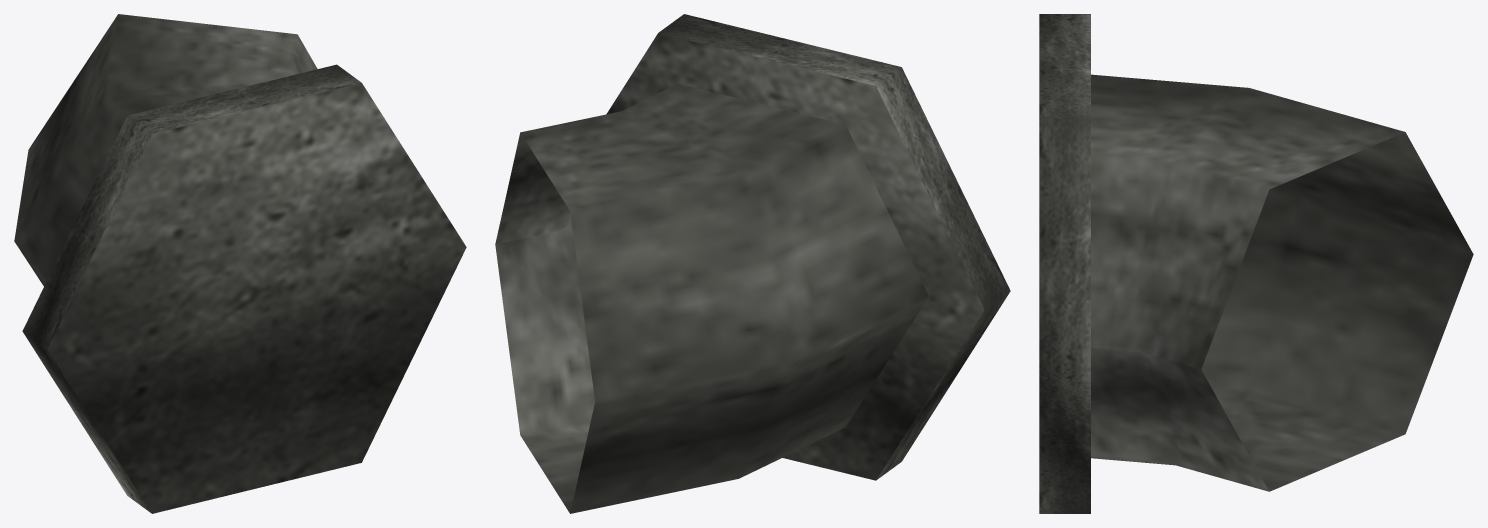
The model's file is large_metal_2_elbow_hz_45.fbx.
3 renders of one model, left to right at view 1: azimuth 30°, elevation 25°; view 2: azimuth 150°, elevation 25°; view 3: azimuth 270°, elevation 25°, orthographic. The views are drawn at different scales.
Visible parts, largest first — view 1: polySurface669; view 2: polySurface669; view 3: polySurface669.
Boxes of the visible parts, x1=… form: polySurface669: x1=14, y1=14, x2=466, y2=513; polySurface669: x1=495, y1=14, x2=1010, y2=513; polySurface669: x1=1039, y1=14, x2=1473, y2=513.
Size of the model in its own units: 1.3 by 1.13 by 1.13.
